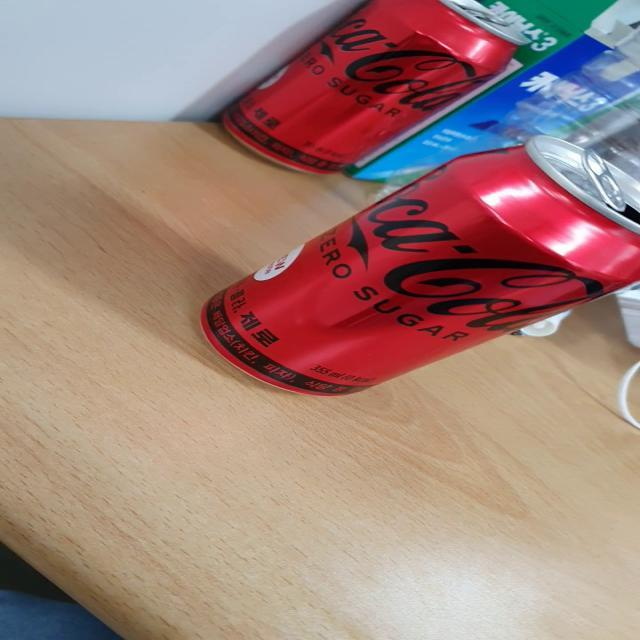coca-cola: (194, 128, 640, 432), (198, 0, 553, 168)
